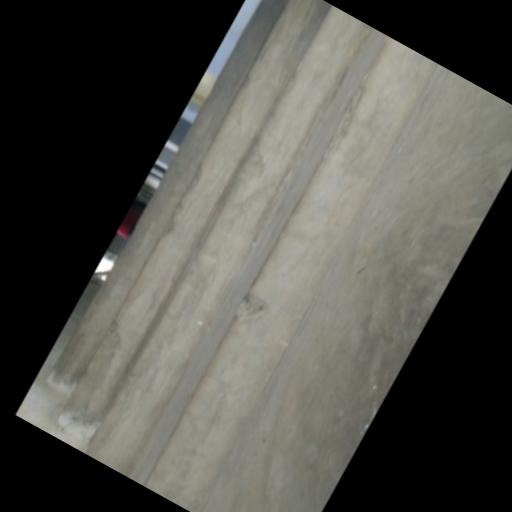stairs: (51, 0, 436, 511)
